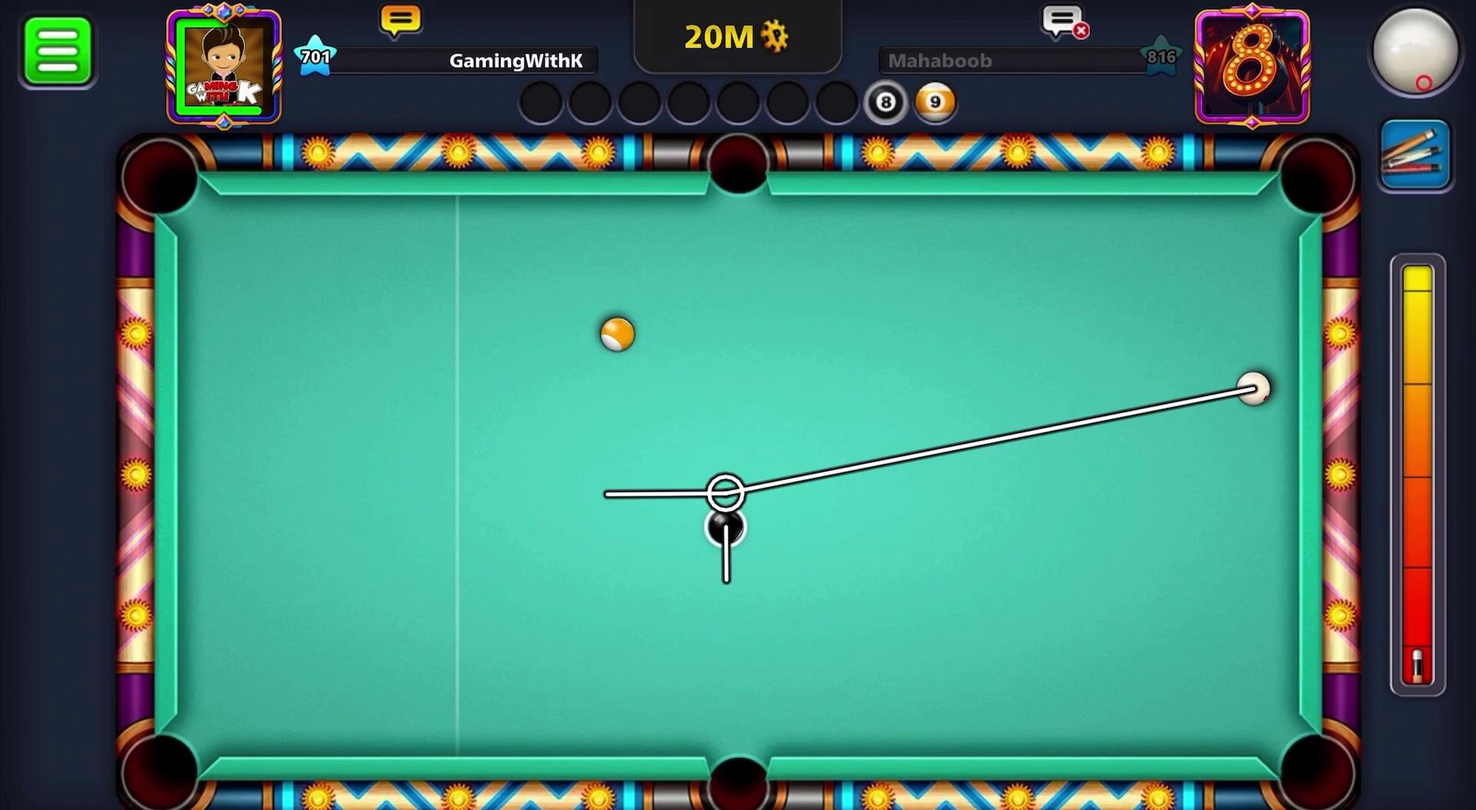Ball: (587, 309, 644, 358), (705, 500, 750, 553)
Force: (1385, 248, 1452, 699)
Guideline: (603, 371, 1271, 583)
Hole: (1268, 127, 1367, 230), (109, 130, 208, 227), (1265, 719, 1364, 809), (112, 724, 208, 809), (696, 128, 785, 207), (686, 738, 784, 809)
Play_Area: (175, 188, 1291, 759)
Spin: (1344, 0, 1475, 115)
White: (1232, 363, 1283, 417)
